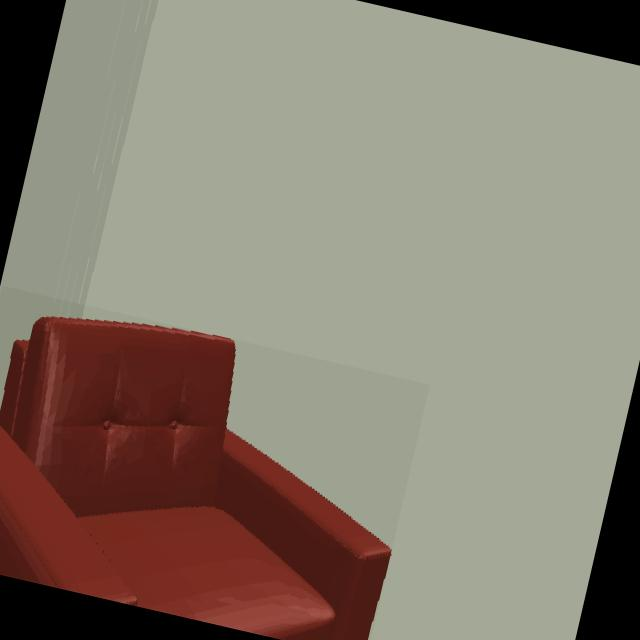sofa: (0, 317, 390, 640)
